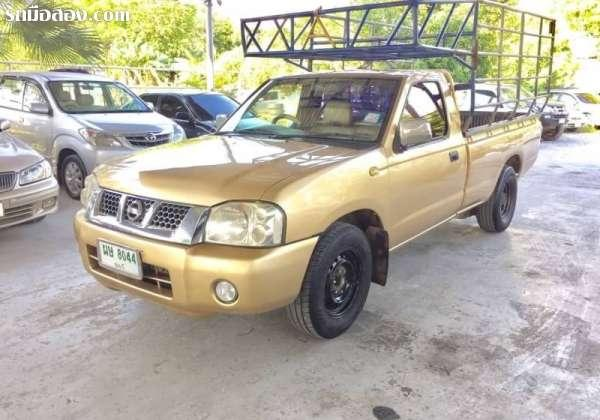pickup: (73, 68, 544, 339)
